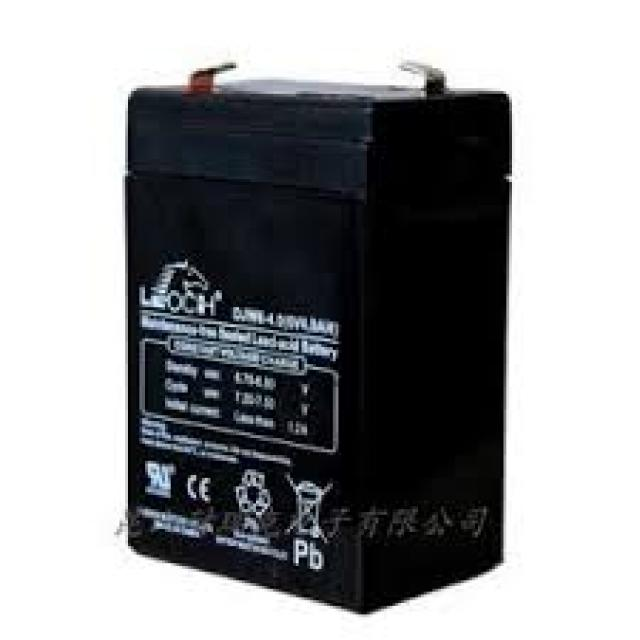non-organic waste: (126, 66, 512, 614)
